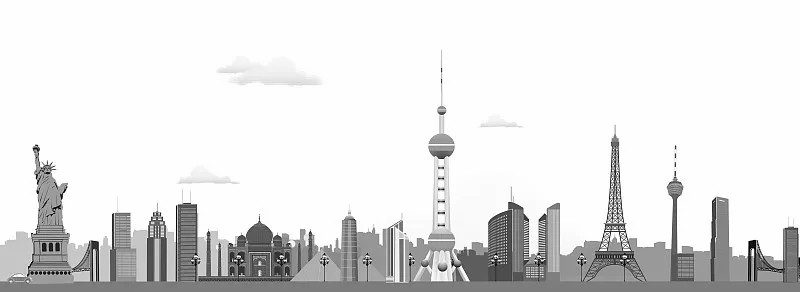Eiffel: (581, 124, 647, 282)
Oriental: (413, 50, 469, 281)
SL: (27, 143, 73, 282)
